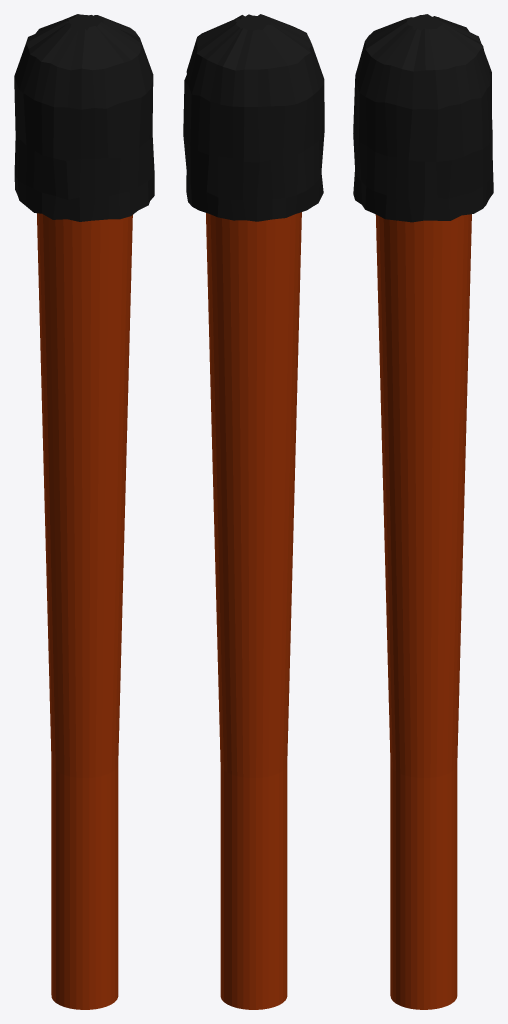
The model's file is Torch.fbx.
3 renders of one model, left to right at view 1: azimuth 30°, elevation 25°; view 2: azimuth 150°, elevation 25°; view 3: azimuth 270°, elevation 25°, orthographic.
Visible parts, largest first — view 1: Cylinder; view 2: Cylinder; view 3: Cylinder.
Boxes of the visible parts, <box> form: Cylinder: <box>14,14,154,1009</box>; Cylinder: <box>183,14,324,1009</box>; Cylinder: <box>353,14,493,1009</box>.
Size of the model in its own units: 420 by 3218 by 421.
